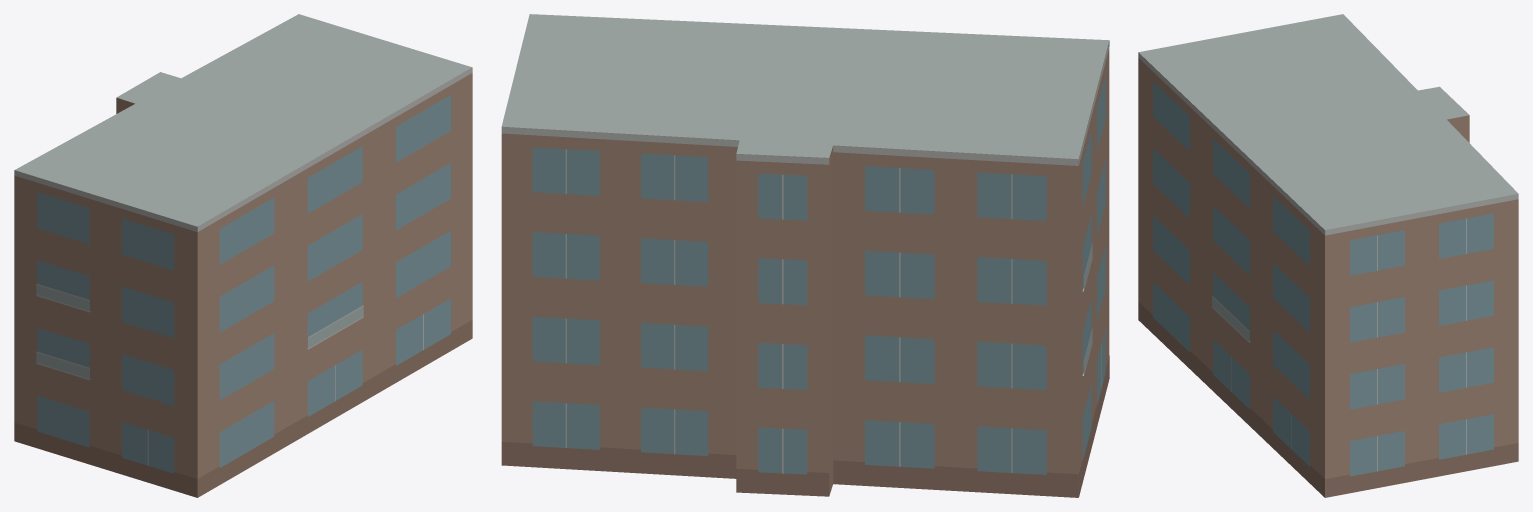
The model's file is survey-upis-32904242.glb.
3 renders of one model, left to right at view 1: azimuth 30°, elevation 25°; view 2: azimuth 150°, elevation 25°; view 3: azimuth 270°, elevation 25°, orthographic. The views are drawn at different scales.
Visible parts, largest first — view 1: survey-upis-32904242.tmp; view 2: survey-upis-32904242.tmp; view 3: survey-upis-32904242.tmp.
Part boxes in pixels (x1,y1,x2,y2): survey-upis-32904242.tmp: (14,14,472,497); survey-upis-32904242.tmp: (501,14,1109,497); survey-upis-32904242.tmp: (1138,14,1518,497).
Bounding box in the file's own units: 21.15 × 12.2 × 15.72.
